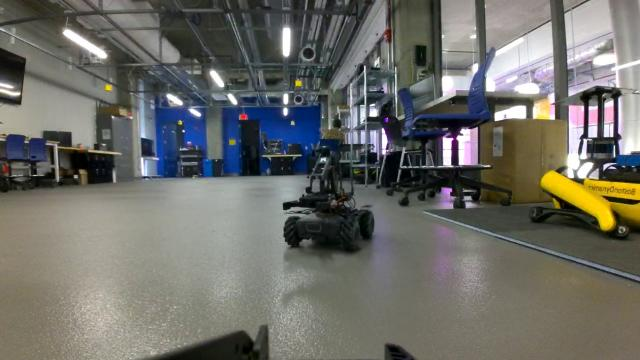robot: (277, 149, 378, 256)
